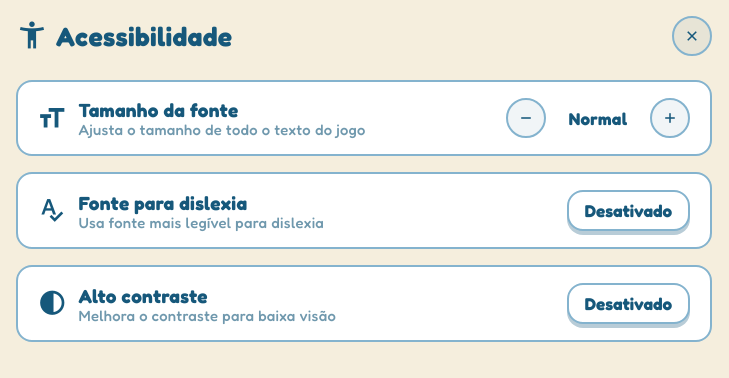
Scenario: Accessibility › mostra o rótulo Normal por padrão e muda com os botões
Expected: the text "Normal" is shown, [569, 108, 627, 128]
Click the button named "Aumentar fonte" at [670, 118], box [650, 98, 690, 138]
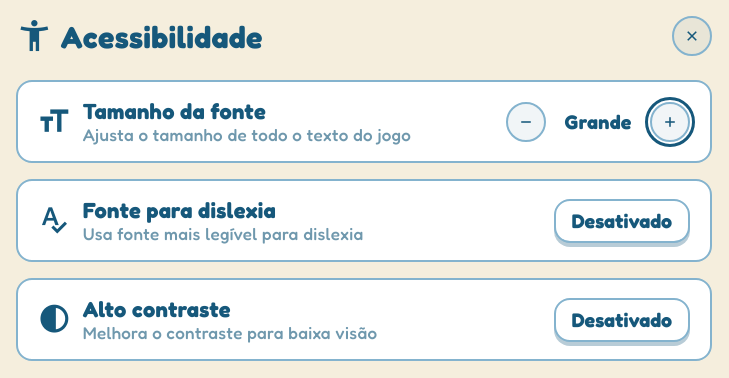
Result: the text "Grande" is shown at [564, 110, 632, 134]
Click the button named "Diminuir fonte" at [526, 122], box [506, 102, 546, 142]
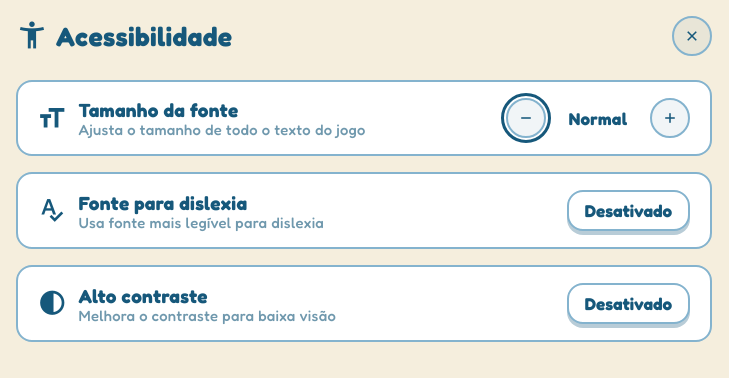
Click the button named "Diminuir fonte" at [526, 118], box [506, 98, 546, 138]
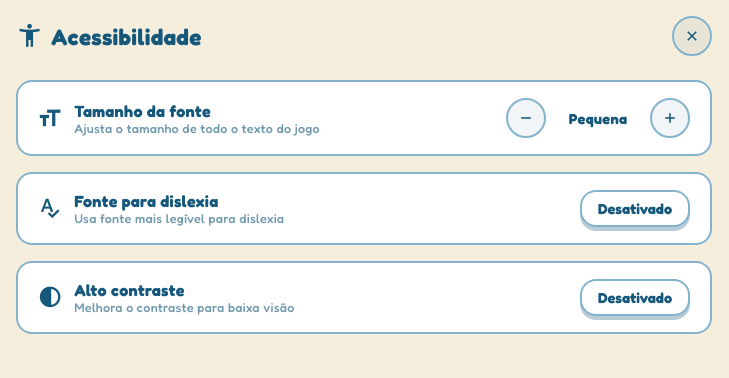
Result: the text "Pequena" is shown at [569, 110, 627, 126]
